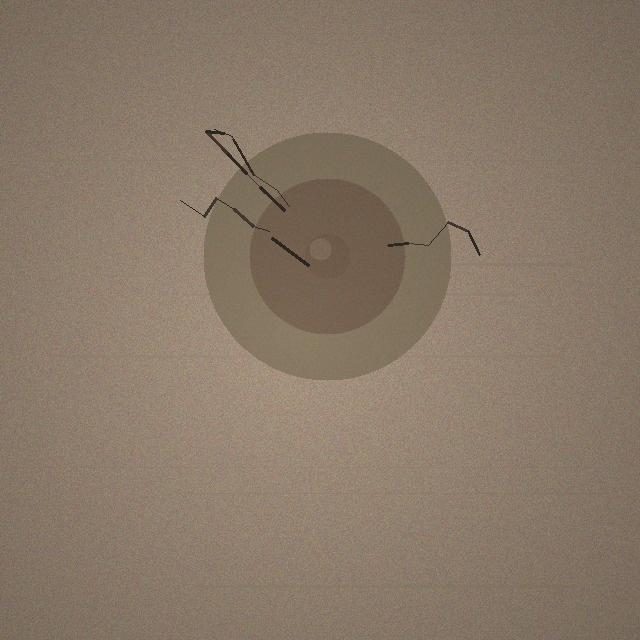crack: (203, 132, 451, 380)
